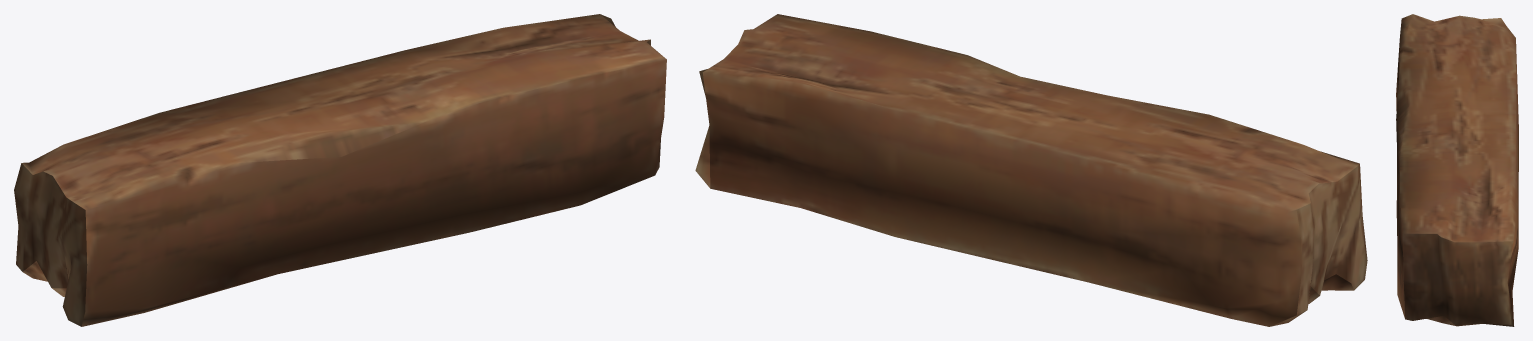
File: SM_Farm_Plank_04.fbx
3 views of the same model, side by side, from view 1: azimuth 30°, elevation 25°; view 2: azimuth 150°, elevation 25°; view 3: azimuth 270°, elevation 25° (orthographic). The views are drawn at different scales.
Parts seen in each view (by area): view 1: SM_Farm_Plank_04_LOD0; view 2: SM_Farm_Plank_04_LOD0; view 3: SM_Farm_Plank_04_LOD0.
Part boxes in pixels (x1,y1,x2,y2): SM_Farm_Plank_04_LOD0: [14, 14, 666, 326]; SM_Farm_Plank_04_LOD0: [695, 14, 1367, 326]; SM_Farm_Plank_04_LOD0: [1396, 14, 1518, 326].
Size of the model in its own units: 87.78 by 18.41 by 19.88.
